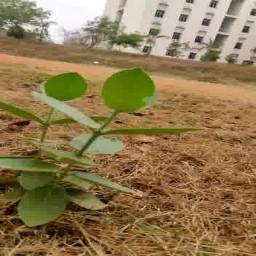CALOTROPIS: (4, 71, 174, 230)
